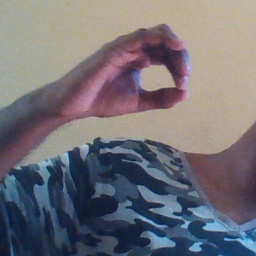O: (62, 17, 193, 121)
